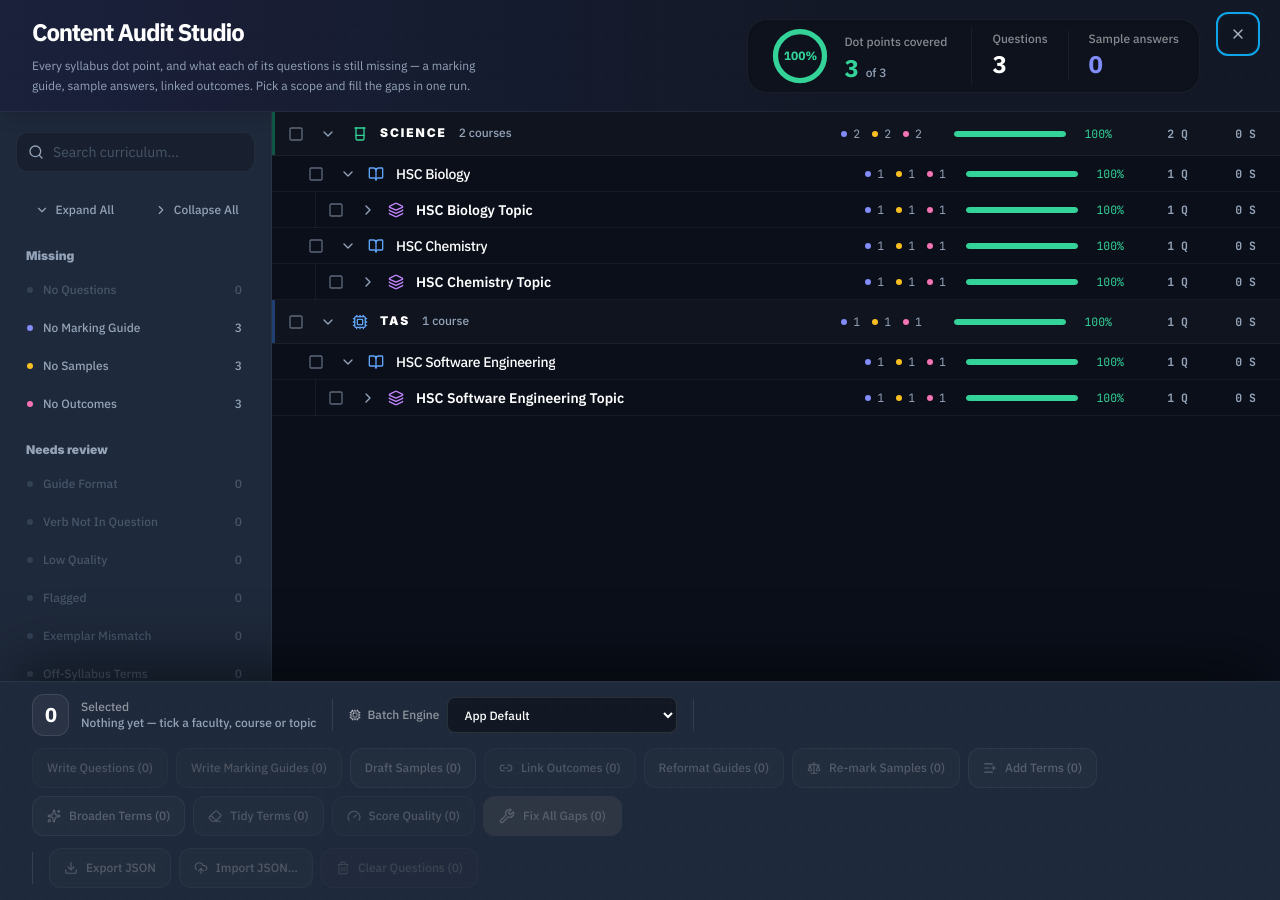
Test: the studio — working a whole faculty › selects every course in a faculty from the faculty row
Click the button named "Select the whole Science faculty".
click(296, 134)  # box [288, 126, 304, 142]
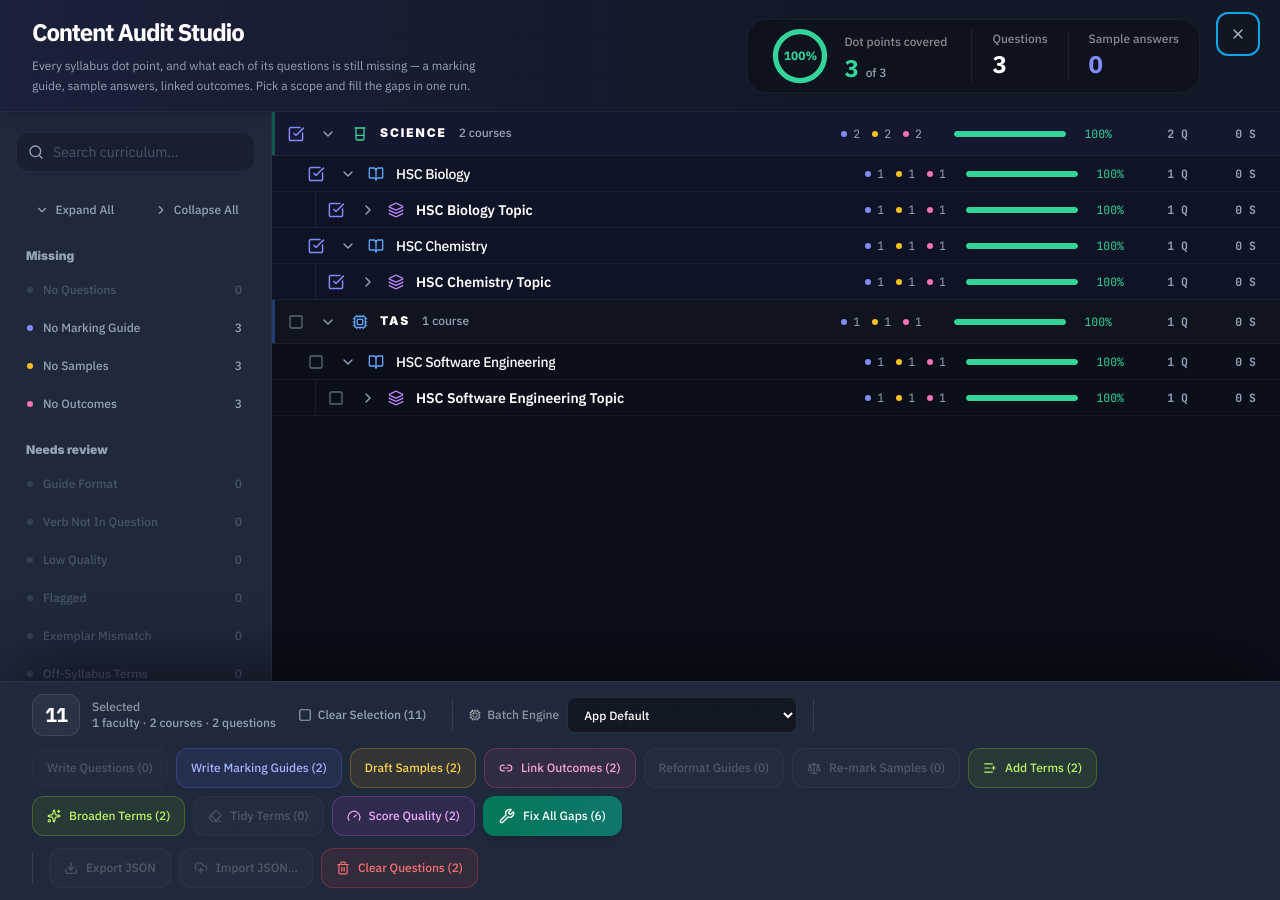
Result: the button "Clear Selection (11)" is shown at [288, 699, 436, 731]
Result: the button "Draft Samples (2)" is shown at [350, 748, 476, 788]
Result: the button "Link Outcomes (2)" is shown at [484, 748, 636, 788]
